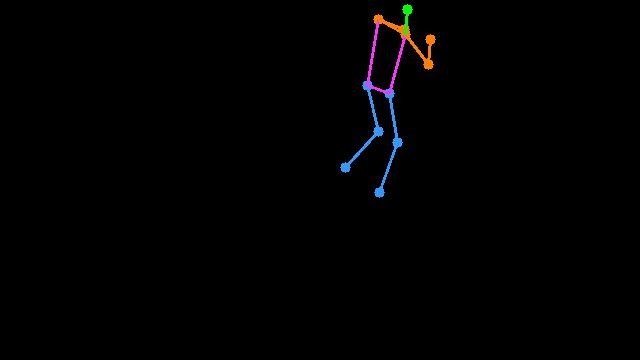normal: (324, 1, 472, 218)
